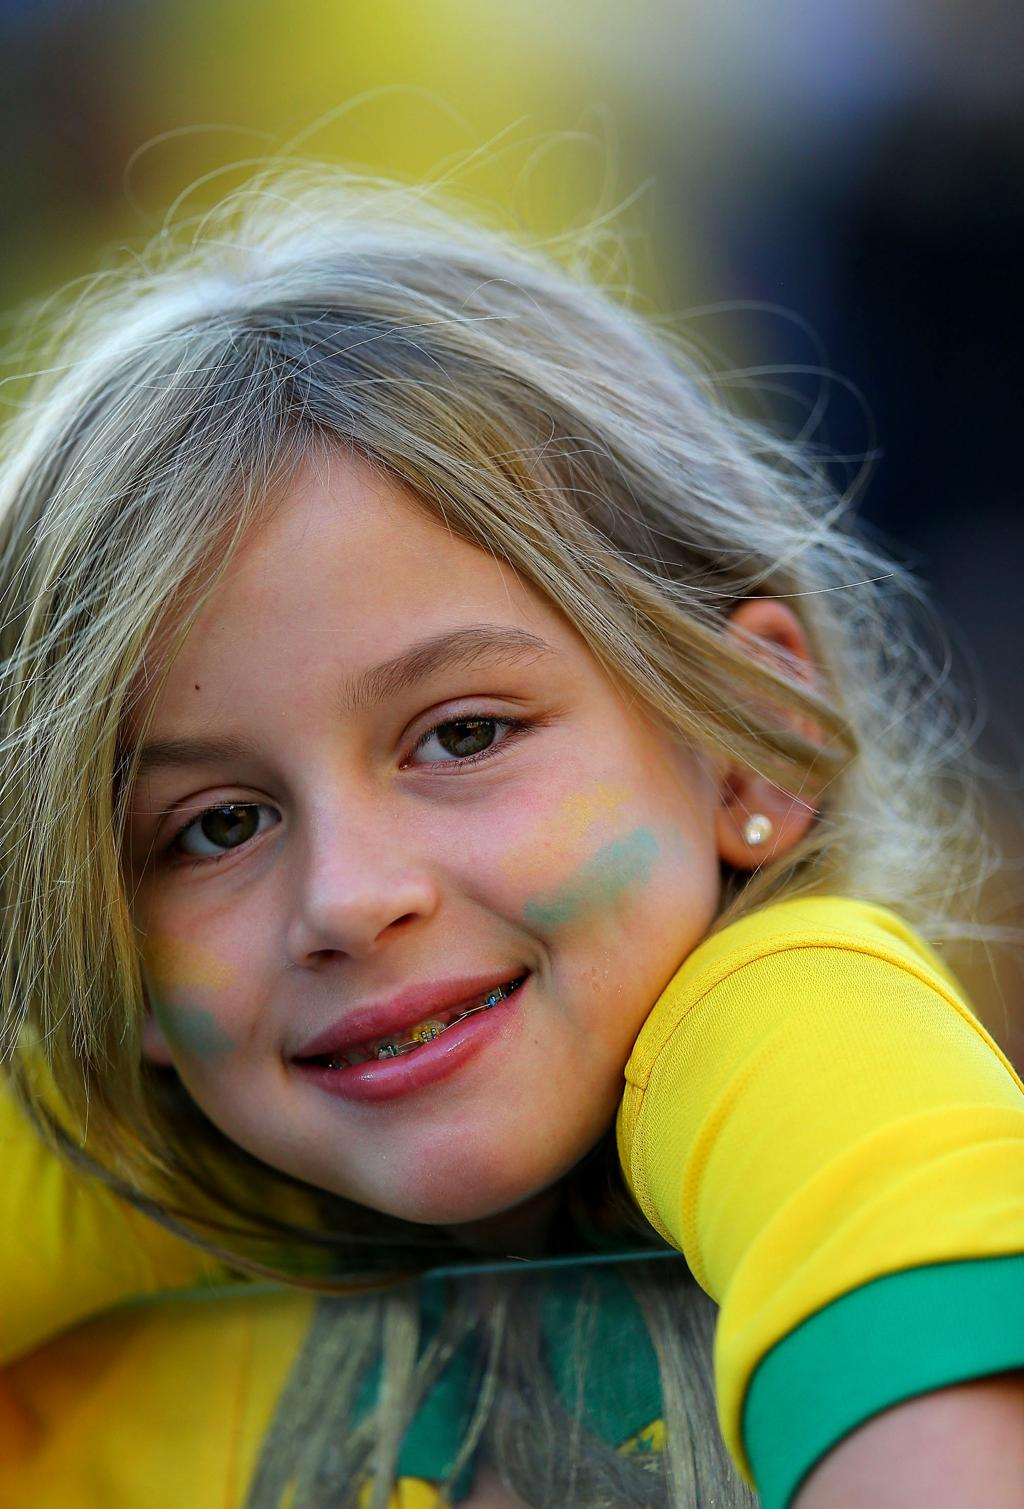face: (129, 465, 644, 1183)
